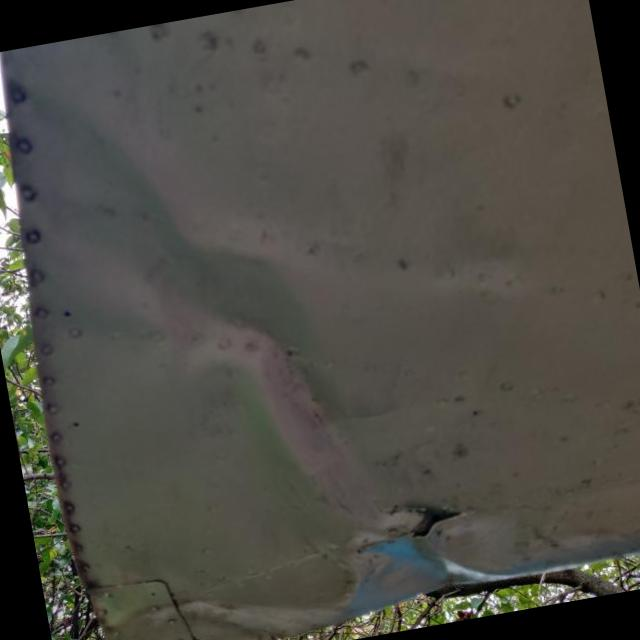Crack: (395, 501, 453, 533)
Dent: (2, 18, 389, 569), (338, 514, 587, 619), (90, 582, 355, 640)
